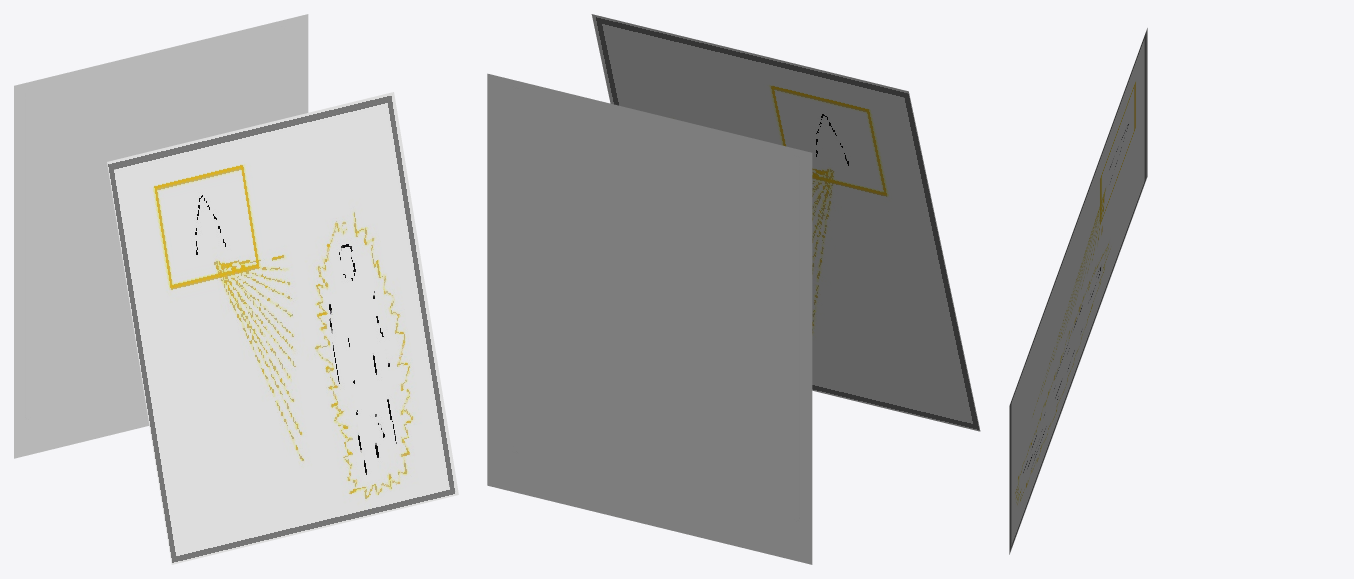
Rendered from Personification rightbattle.glb.
The picture shows the model from 3 angles, left to right: view 1: azimuth 30°, elevation 25°; view 2: azimuth 150°, elevation 25°; view 3: azimuth 270°, elevation 25°; orthographic projection. The views are drawn at different scales.
Visible parts, largest first — view 1: mesh_id29, mesh_id1; view 2: mesh_id1, mesh_id29; view 3: mesh_id29.
Part boxes in pixels (bbox=[...]): mesh_id29: bbox=[107, 92, 458, 564]; mesh_id1: bbox=[14, 14, 308, 458]; mesh_id1: bbox=[487, 73, 812, 564]; mesh_id29: bbox=[591, 14, 980, 431]; mesh_id29: bbox=[1009, 28, 1147, 554].
Bounding box in the file's own units: 0.416 × 0.504 × 0.3794.
2 materials, 2 textured.
